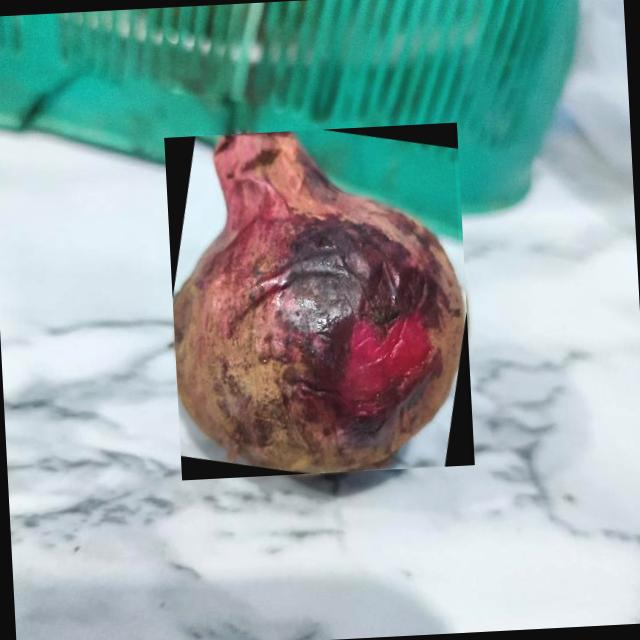rotten: (173, 132, 462, 472)
